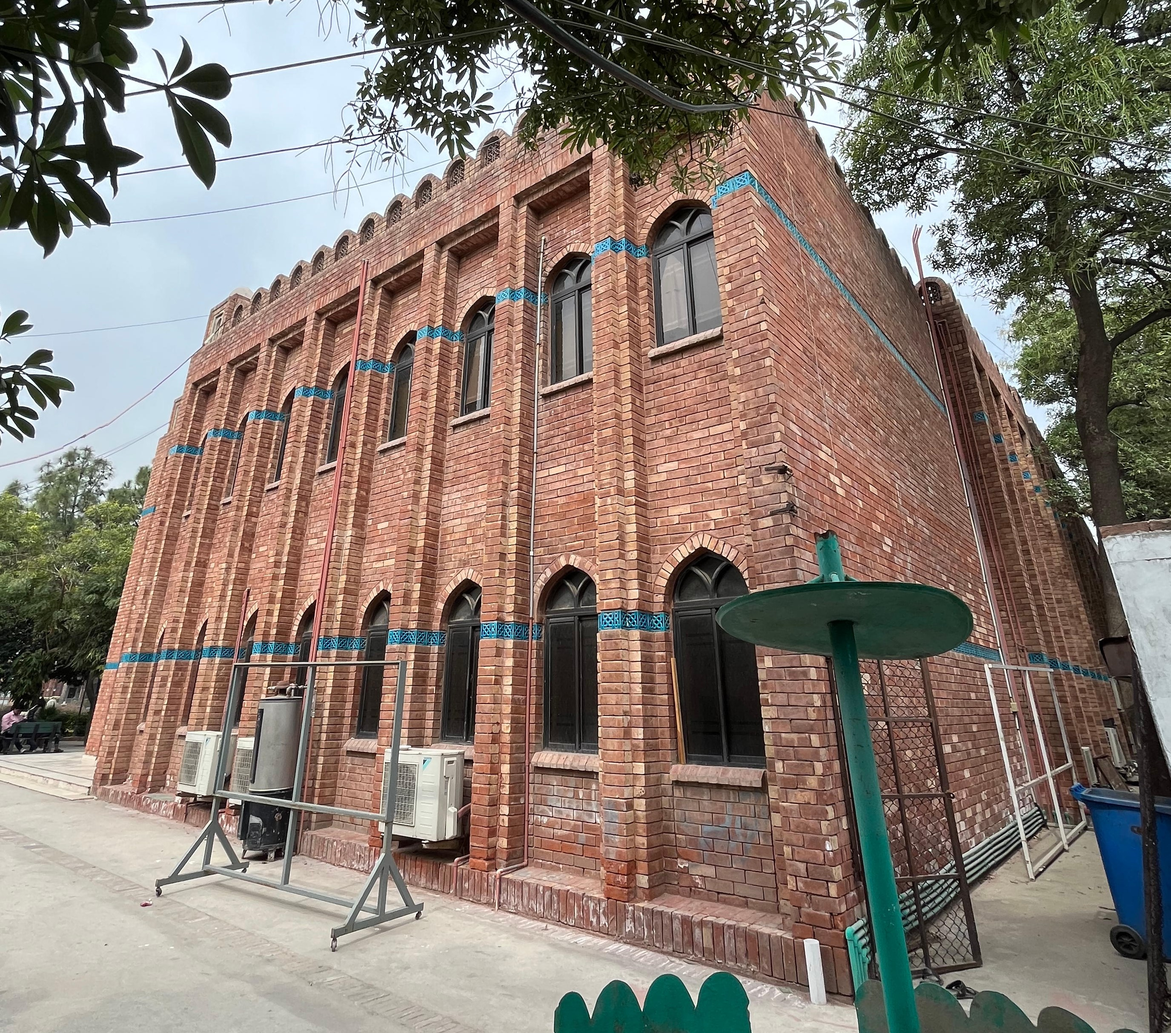Block E: (131, 61, 859, 962)
